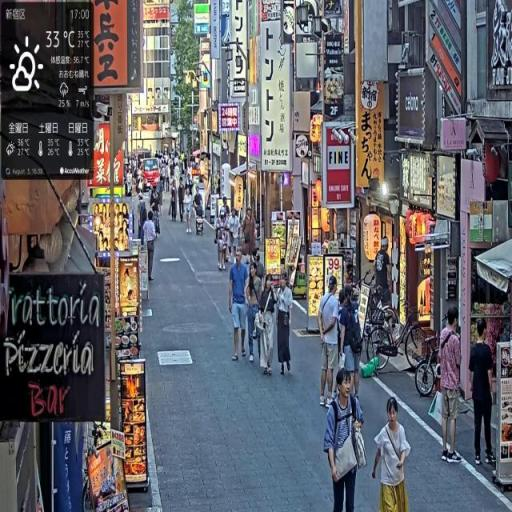person: (324, 366, 368, 512), (371, 395, 412, 512), (439, 305, 466, 468), (469, 318, 498, 469), (318, 273, 342, 411), (229, 248, 251, 364), (276, 272, 295, 378), (144, 211, 160, 286), (184, 189, 194, 235)
